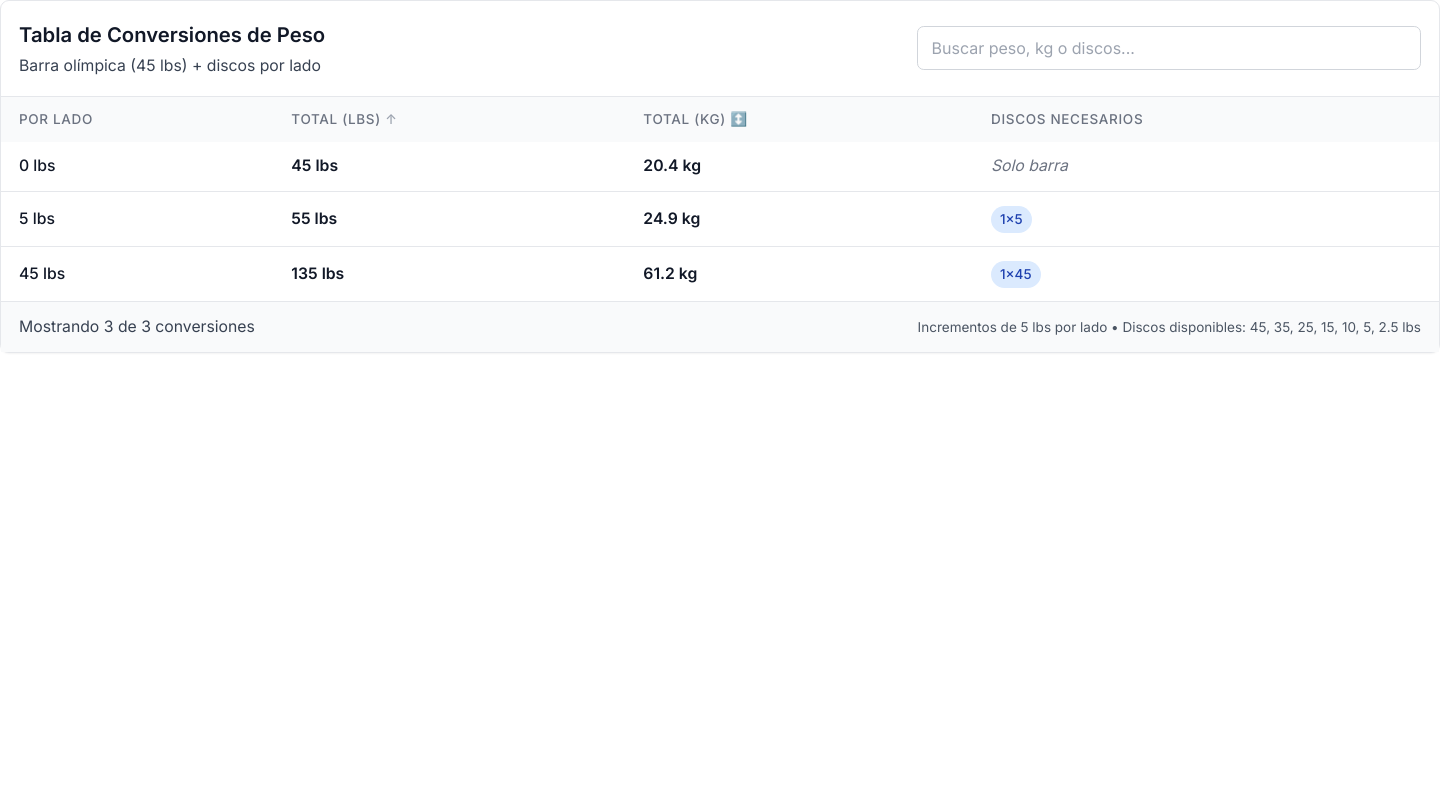
Test case: WeightConversionsTable › opens conversion details modal when row is clicked
// Click on a table row
Click the text "0 lbs": (720, 166) [1,142,1439,192]
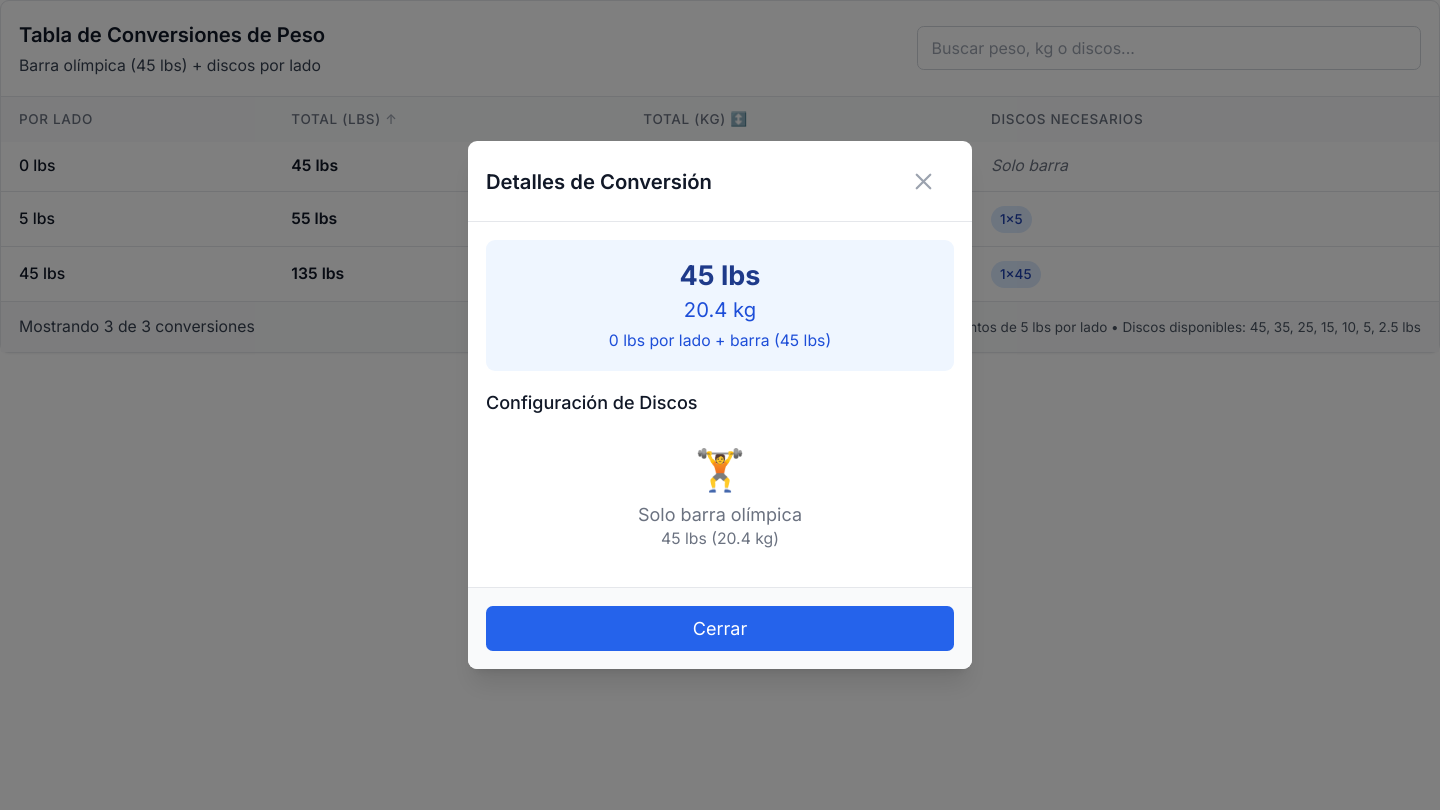
Expected: the heading "Detalles de Conversión" is shown, [486,166,712,197]
